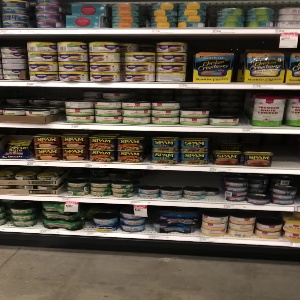void: (271, 133, 300, 169)
